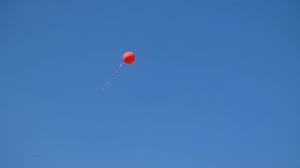Balloon: (122, 51, 135, 65)
